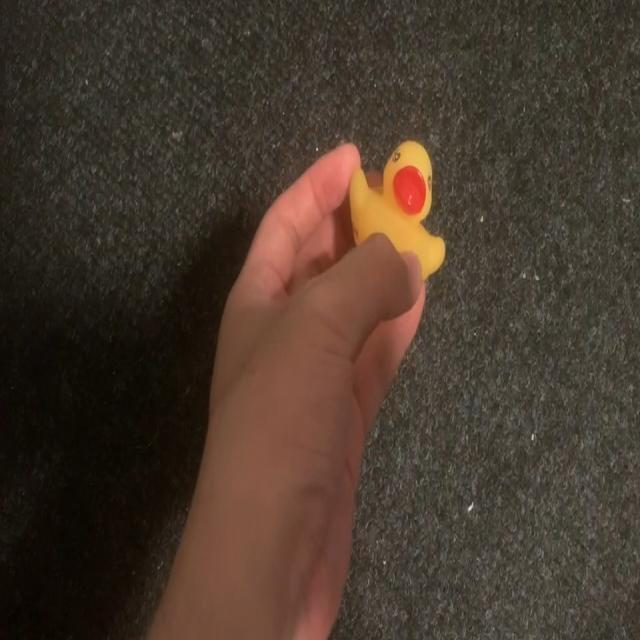rubber-duck: (349, 140, 443, 277)
